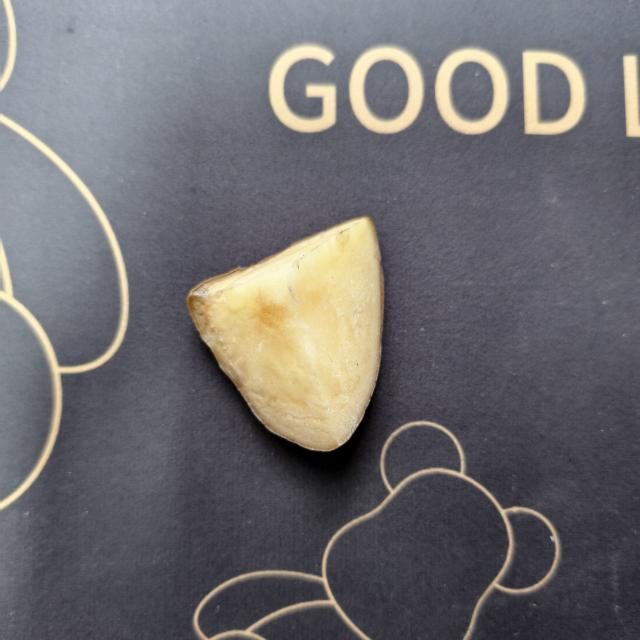-Kitchen waste - potato-: (186, 210, 386, 454)
